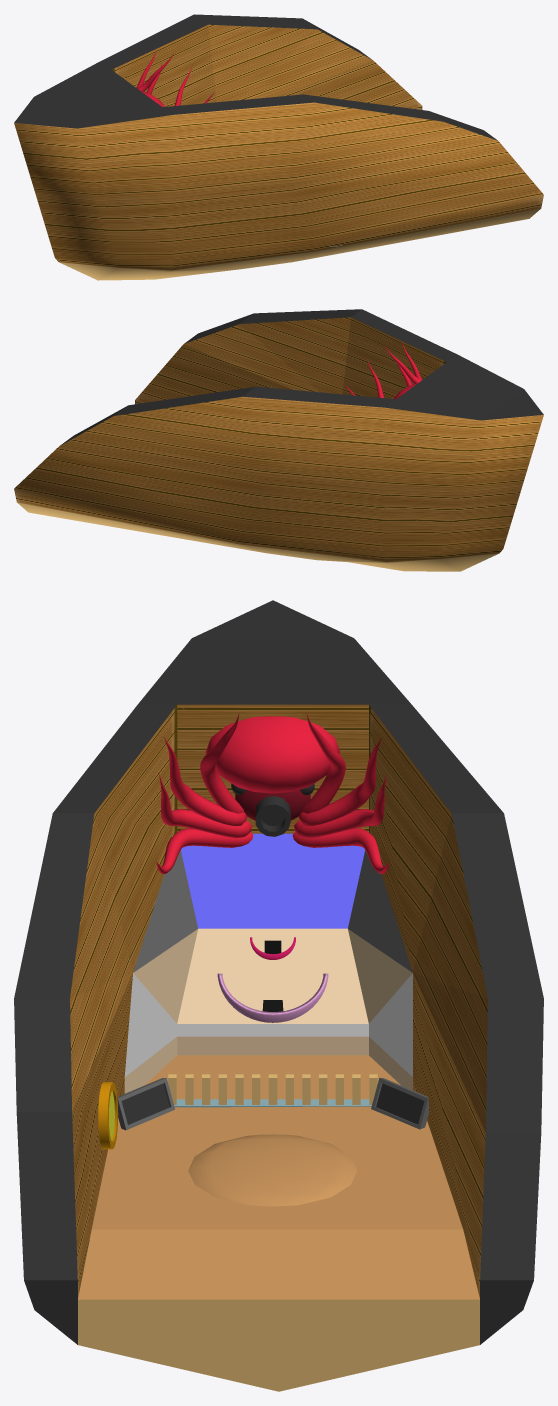
Rendered from BasketBallBooth.fbx.
3 renders of one model, top to bottom at view 1: azimuth 30°, elevation 25°; view 2: azimuth 150°, elevation 25°; view 3: azimuth 270°, elevation 25°, orthographic. The views are drawn at different scales.
Visible parts, largest first — view 1: BasketBallBooth, tentacle0.001; view 2: BasketBallBooth, tentacle0.001; view 3: BasketBallBooth, tentacle0.001, SandPatchForAiming, Sphere, GameBarrier, EventInfoPanel, EventInfoPanel.001, BasketBallBoothCircle1, BasketBallBoothCanon, BoatWindow, Cube.008, Sphere.001.
Boxes of the visible parts, bbox=[...] form: BasketBallBooth: bbox=[14, 14, 543, 280]; tentacle0.001: bbox=[136, 49, 214, 106]; BasketBallBooth: bbox=[14, 309, 543, 571]; tentacle0.001: bbox=[344, 342, 422, 398]; BasketBallBooth: bbox=[14, 600, 543, 1391]; tentacle0.001: bbox=[156, 713, 389, 873]; SandPatchForAiming: bbox=[188, 1134, 357, 1206]; Sphere: bbox=[205, 716, 340, 793]; GameBarrier: bbox=[168, 1074, 377, 1104]; EventInfoPanel: bbox=[117, 1078, 174, 1130]; EventInfoPanel.001: bbox=[371, 1077, 428, 1129]; BasketBallBoothCircle1: bbox=[217, 973, 328, 1022]; BasketBallBoothCanon: bbox=[255, 796, 290, 836]; BoatWindow: bbox=[98, 1082, 118, 1149]; Cube.008: bbox=[174, 1099, 371, 1107]; Sphere.001: bbox=[235, 790, 310, 820].
Bounding box in the file's own units: 12.31 × 6.5 × 5.55.
